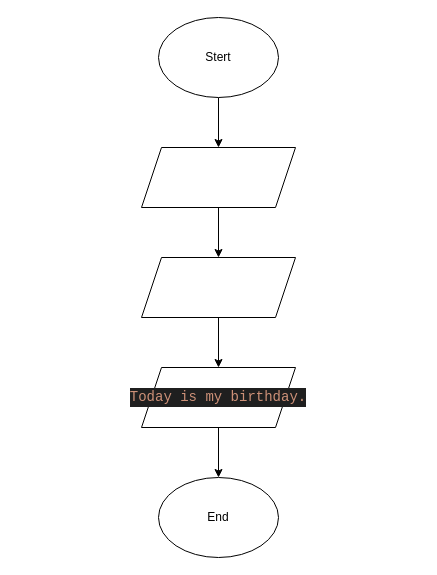
Image size: 437x575. Some labels were removed from this diagram. The centre of each missing label's shape, as x and y in pixels:
"Hello, I'm Javis (RMUTL-Version)." belongs at pixel 218 177.
"This is my first time to coding with C language." belongs at pixel 218 287.
